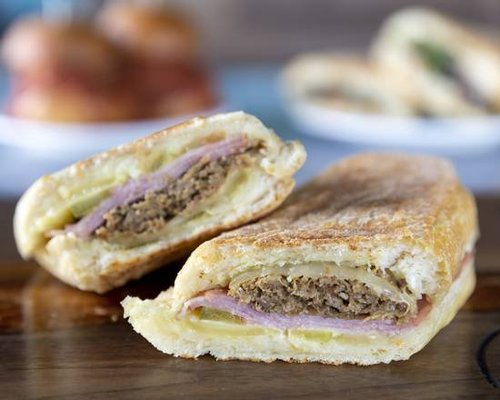soup: (120, 151, 485, 367), (13, 110, 308, 294)
